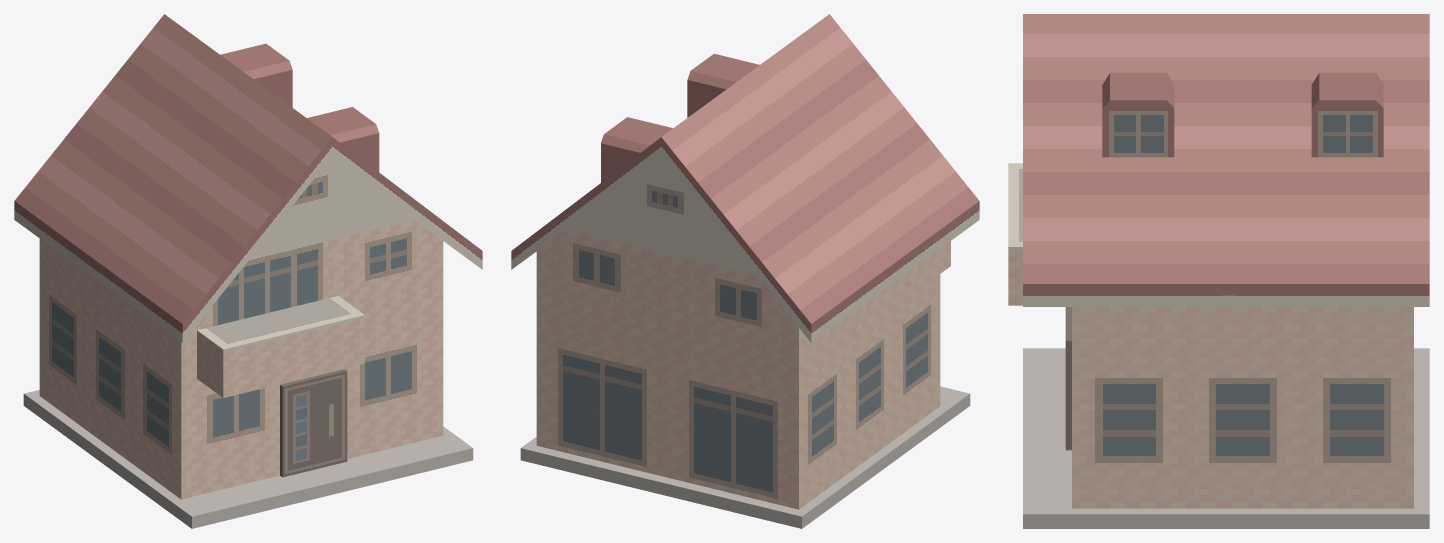
The model's file is 025e_Niwata_Residence.glb.
The picture shows the model from 3 angles, left to right: view 1: azimuth 30°, elevation 25°; view 2: azimuth 150°, elevation 25°; view 3: azimuth 270°, elevation 25°; orthographic projection. The views are drawn at different scales.
Visible parts, largest first — view 1: part_0; view 2: part_0; view 3: part_0.
Part boxes in pixels (x1,y1,x2,y2): part_0: (14, 14, 482, 528); part_0: (511, 14, 979, 528); part_0: (1008, 14, 1429, 528).
Size of the model in its own units: 6.4 by 7.29 by 6.44.
1 material, 1 textured.
